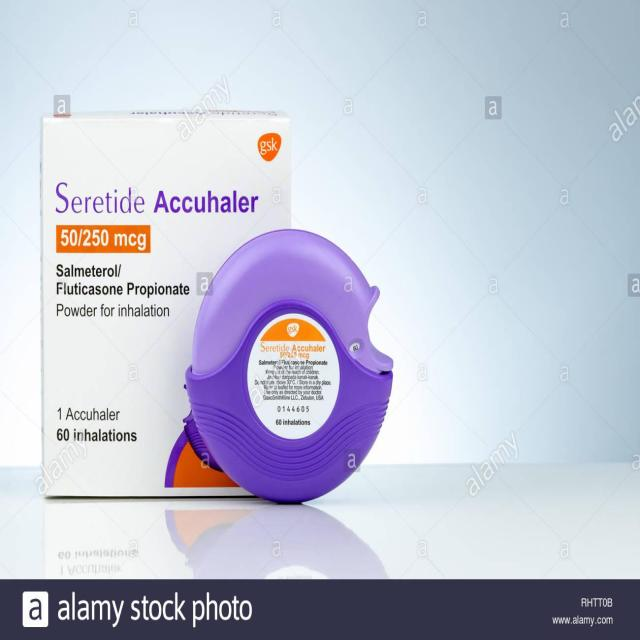B3: (185, 217, 397, 515)
